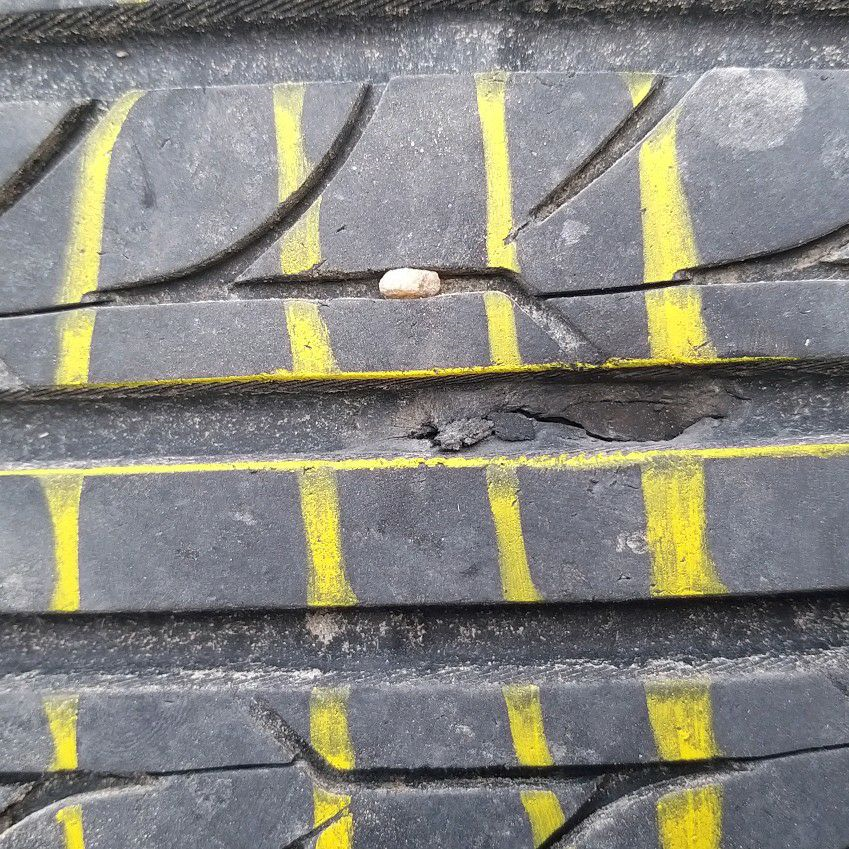tr: (398, 388, 737, 453)
